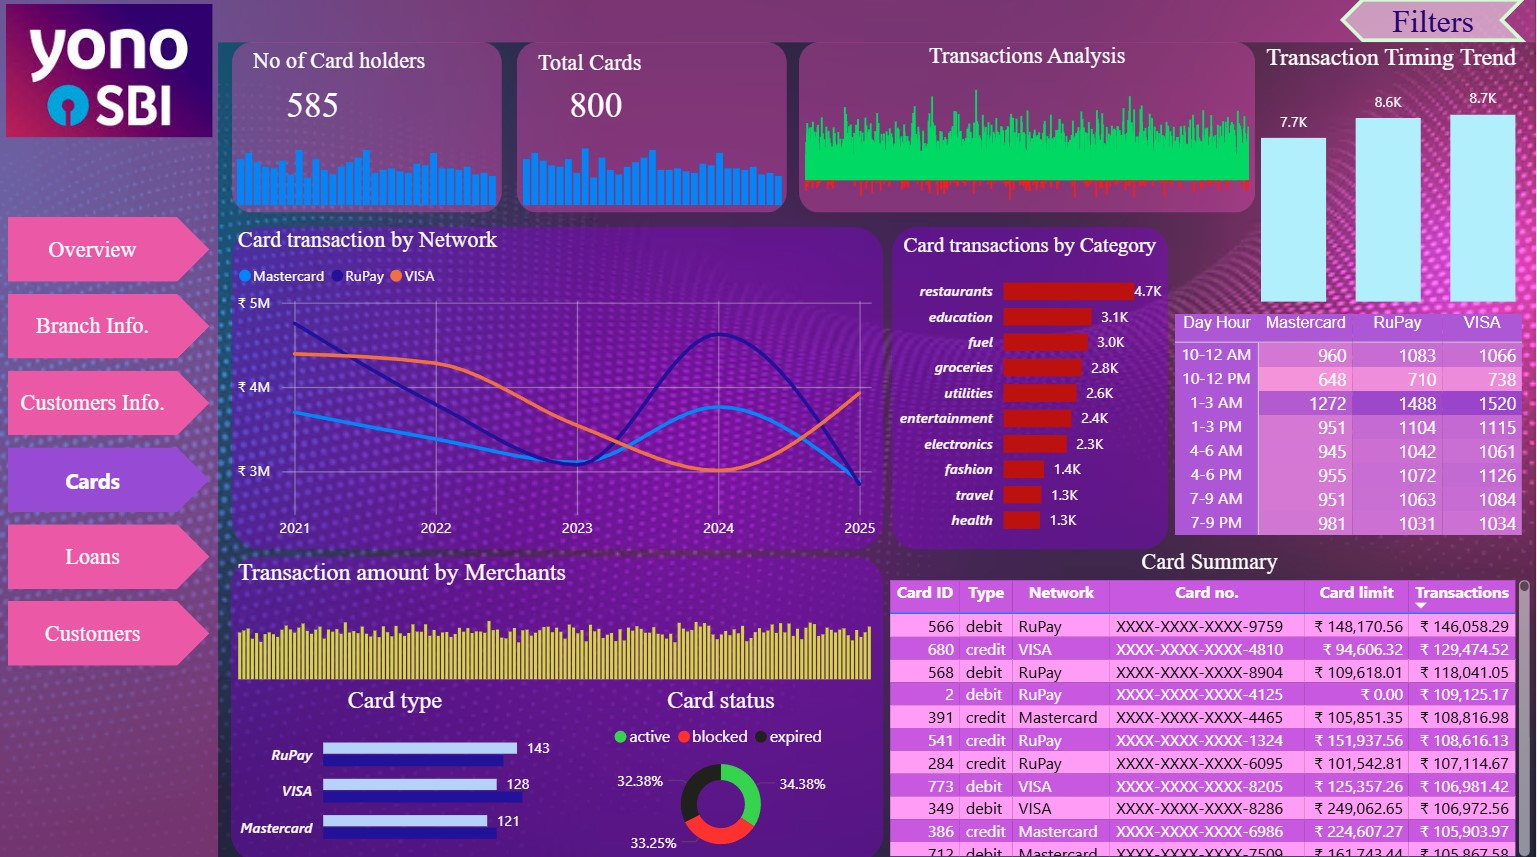

What the dashboard file says about the page in this screenshot:
{"tool":"powerbi","page":{"name":"Cards","canvas":[1280,720],"ordinal":3},"visuals":[{"type":"shape","box":[193.2,36.9,224.8,142.2],"z":0},{"type":"shape","box":[0,0,181.8,720],"z":1000},{"type":"textbox","box":[205.5,36.9,171.2,36.9],"z":2000},{"type":"card","fields":{"Values":["public cards.no of card holders"]},"box":[205.5,67.6,109.8,41.3],"z":3000},{"type":"columnChart","fields":{"Y":["public cards.no of card holders"],"Category":["public cards.issued_on.Variation.Date Hierarchy.Day"]},"box":[192.3,107.1,225.7,71.1],"z":4000},{"type":"shape","box":[431.1,36.9,224.8,142.2],"z":5000},{"type":"textbox","box":[443.4,38.6,148.4,36.9],"z":6000},{"type":"shape","box":[193.2,190.5,542.6,268.7],"z":7000},{"type":"shape","box":[192.3,466.2,543.5,253.8],"z":8000},{"type":"card","fields":{"Values":["public cards.No of cards"]},"box":[441.7,67.6,109.8,41.3],"z":9000},{"type":"shape","box":[743.7,190.5,230,268.7],"z":10000},{"type":"columnChart","fields":{"Category":["public cards.issued_on.Variation.Date Hierarchy.Day"],"Y":["public cards.No of cards"]},"box":[431.1,107.1,225.7,71.1],"z":11000},{"type":"clusteredBarChart","title":"Card type","fields":{"Category":["public cards.network"],"Y":["public cards.No of cards"],"Series":["public cards.card_type"]},"box":[193.4,573.7,271.4,146.2],"z":12000},{"type":"donutChart","title":"Card status","fields":{"Y":["public cards.No of cards"],"Category":["public cards.status"]},"box":[464.8,573.7,271.4,146.2],"z":13000},{"type":"lineChart","title":"Card transaction by Network","fields":{"Y":["Sum(public cards.card transacted amount)"],"Category":["public cards.Year"],"Series":["public cards.network"]},"box":[193.2,190.5,540.9,268.7],"z":14000},{"type":"tableEx","title":"Card Summary","fields":{"Values":["public cards.card_id","public cards.card_type","public cards.network","public cards.masked_pan","Sum(public cards.credit_limit)","Sum(public cards.card transacted amount)"]},"box":[735.8,459.2,544.4,260.8],"z":15000},{"type":"pivotTable","fields":{"Values":["public cards.no of card txn"],"Columns":["public cards.network"],"Rows":["public card_transactions.Day Hour"]},"box":[974.1,258.7,305.9,197.9],"z":16000},{"type":"clusteredColumnChart","title":"Transaction Timing Trend","fields":{"Category":["public cards.network"],"Y":["public cards.no of card txn"]},"box":[1045.8,37.2,227,221.5],"z":17000},{"type":"clusteredColumnChart","title":"Transaction amount by Merchants","fields":{"Y":["public card_transactions.total card transaction amount"],"Category":["public merchants.merchant_id"]},"box":[193.4,466.6,541,107.1],"z":18000},{"type":"shape","box":[665.6,36.9,380.2,142.2],"z":19000},{"type":"columnChart","title":"Transactions Analysis","fields":{"Category":["public card_transactions.card_txn_id"],"Y":["public card_transactions.total card transaction amount"]},"box":[665.4,37.2,380.4,159.8],"z":20000},{"type":"clusteredBarChart","title":"Card transactions by Category","fields":{"Category":["public merchants.category"],"Y":["public cards.no of card txn"]},"box":[743.5,197,229.7,259.6],"z":21000},{"type":"image","box":[0,0,181.6,120.7],"z":22000},{"type":"pageNavigator","box":[6.4,182.5,168.9,378.6],"z":23000},{"type":"shape","box":[181.6,0,1098.4,37.2],"z":24000},{"type":"actionButton","box":[1116.3,0,155.1,36.6],"z":25000}]}

Visuals, with their boxes in screenshot pixels (x1, y1, x2, y2), scaled from the page's 1280x720 canvas onto the 1537x857 screenshot:
shape: l=232, t=44, r=502, b=213
shape: l=0, t=0, r=218, b=856
textbox: l=247, t=44, r=452, b=88
card - public cards.no of card holders: l=247, t=80, r=379, b=130
columnChart - public cards.no of card holders x public cards.issued_on.Variation.Date Hierarchy.Day: l=231, t=127, r=502, b=212
shape: l=518, t=44, r=788, b=213
textbox: l=532, t=46, r=711, b=90
shape: l=232, t=227, r=884, b=547
shape: l=231, t=555, r=884, b=856
card - public cards.No of cards: l=530, t=80, r=662, b=130
shape: l=893, t=227, r=1169, b=547
columnChart - public cards.issued_on.Variation.Date Hierarchy.Day x public cards.No of cards: l=518, t=127, r=789, b=212
"Card type" clusteredBarChart: l=232, t=683, r=558, b=856
"Card status" donutChart: l=558, t=683, r=884, b=856
"Card transaction by Network" lineChart: l=232, t=227, r=881, b=547
"Card Summary" tableEx: l=884, t=547, r=1536, b=856
pivotTable - public cards.no of card txn x public cards.network: l=1170, t=308, r=1536, b=543
"Transaction Timing Trend" clusteredColumnChart: l=1256, t=44, r=1528, b=308
"Transaction amount by Merchants" clusteredColumnChart: l=232, t=555, r=882, b=683
shape: l=799, t=44, r=1256, b=213
"Transactions Analysis" columnChart: l=799, t=44, r=1256, b=234
"Card transactions by Category" clusteredBarChart: l=893, t=234, r=1169, b=543
image: l=0, t=0, r=218, b=144
pageNavigator: l=8, t=217, r=210, b=668
shape: l=218, t=0, r=1536, b=44
actionButton: l=1340, t=0, r=1527, b=44
